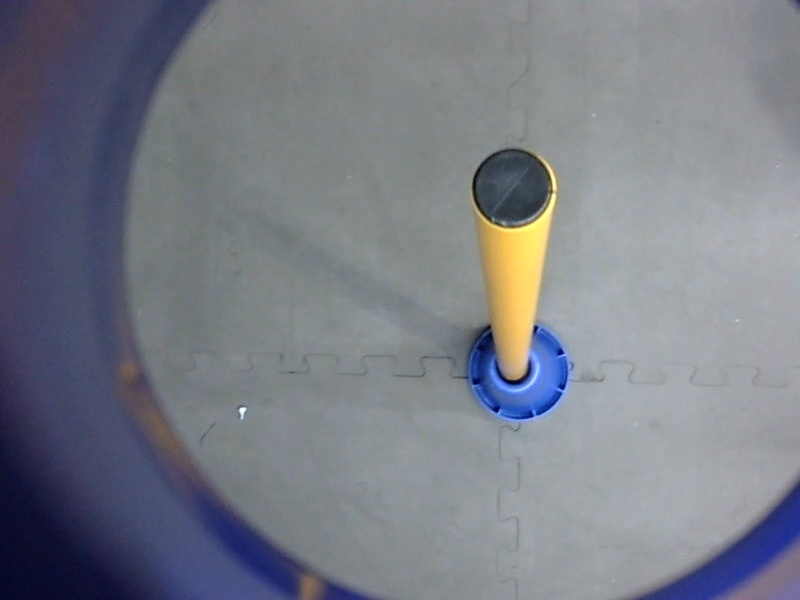tip: (461, 141, 565, 239)
